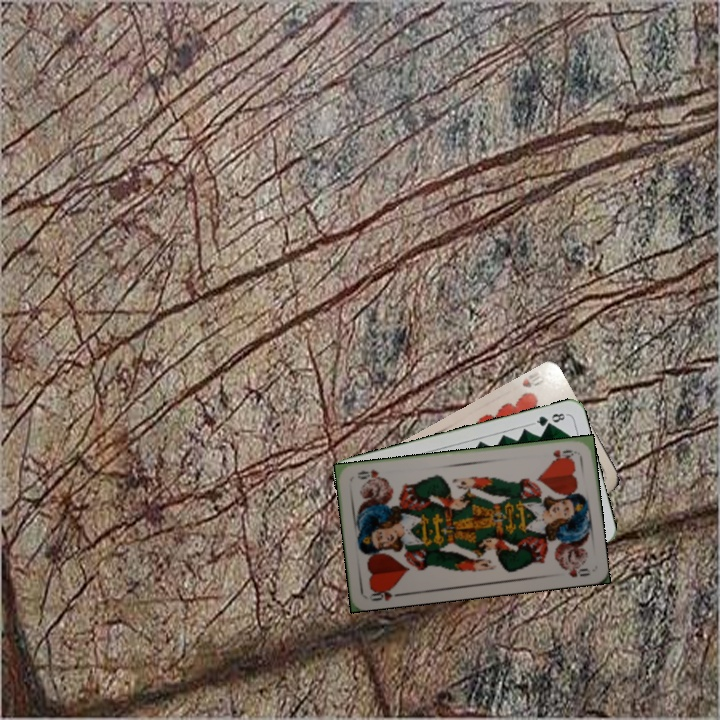G8: (529, 409, 569, 429)
H10: (518, 367, 547, 390)
HO: (365, 582, 405, 604), (548, 446, 579, 463)
